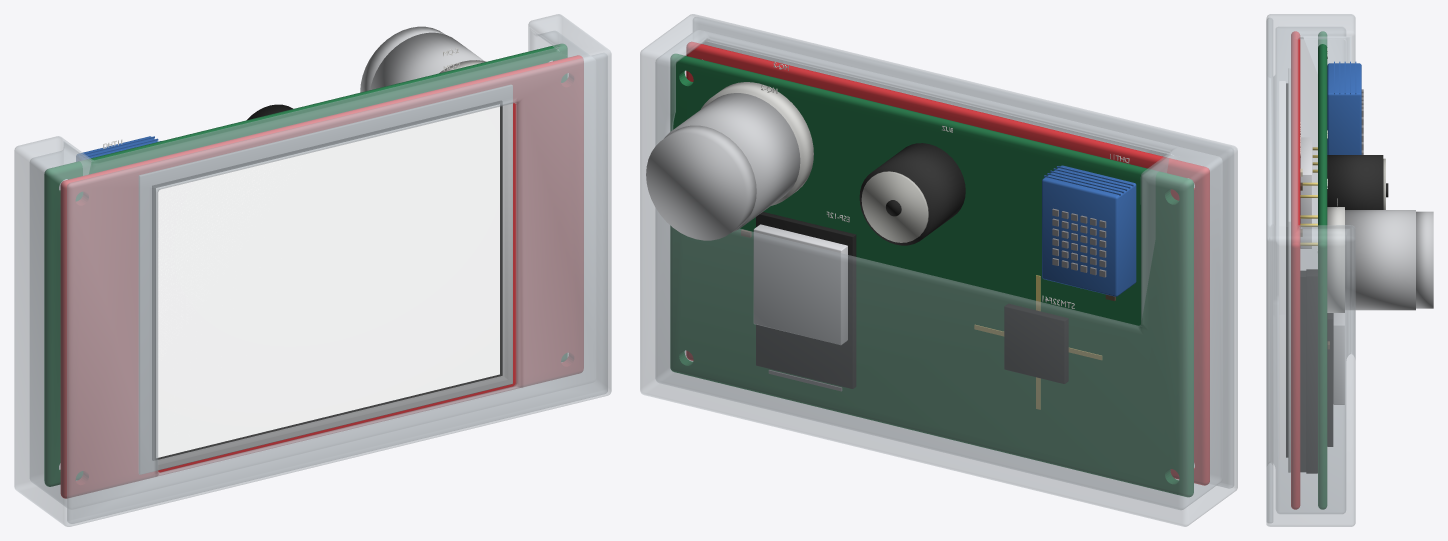
The picture shows the model from 3 angles, left to right: view 1: azimuth 30°, elevation 25°; view 2: azimuth 150°, elevation 25°; view 3: azimuth 270°, elevation 25°; orthographic projection. The views are drawn at different scales.
Visible parts, largest first — view 1: Panel_Shell_Body, TFT_Cover_Glass, Dynamic_Screen_Canvas, Panel_Front, TFT_Red_PCB, TFT_Metal_Bezel, Mesh_PCB, TFT_LCD_Body, Mesh_MQ2, Sensor_MQ2_Dome; view 2: Panel_Shell_Body, Mesh_PCB, TFT_Red_PCB, Panel_Front, Sensor_MQ2_Dome, Mod_ESP8266_Shield, Mesh_DHT11, Mesh_MQ2, Mesh_ESP8266, Mesh_STM32F411, Mesh_Buzzer, Buzzer_Top (+1 smaller); view 3: Panel_Shell_Body, Mesh_MQ2, TFT_Red_PCB, Mesh_PCB, Panel_Front, Mesh_DHT11, Mesh_Buzzer, Main_Female_Header, Sensor_MQ2_Ring, Sensor_MQ2_Dome, TFT_Pin_Header_Base, TFT_Metal_Bezel (+4 smaller).
Boxes of the visible parts, x1,y1,x2,y2 form: Panel_Shell_Body: (14, 14, 611, 526); TFT_Cover_Glass: (158, 105, 507, 464); Dynamic_Screen_Canvas: (156, 104, 499, 457); Panel_Front: (67, 53, 607, 523); TFT_Red_PCB: (60, 55, 583, 498); TFT_Metal_Bezel: (139, 85, 512, 474); Mesh_PCB: (44, 43, 567, 486); TFT_LCD_Body: (152, 101, 502, 460); Mesh_MQ2: (370, 32, 483, 89); Sensor_MQ2_Dome: (360, 26, 444, 92); Panel_Shell_Body: (640, 14, 1237, 526); Mesh_PCB: (670, 53, 1193, 497); TFT_Red_PCB: (686, 41, 1209, 485); Panel_Front: (693, 17, 1233, 488); Sensor_MQ2_Dome: (646, 125, 756, 240); Mod_ESP8266_Shield: (753, 224, 847, 344); Mesh_DHT11: (1042, 165, 1136, 296); Mesh_MQ2: (664, 93, 800, 232); Mesh_ESP8266: (756, 212, 856, 388); Mesh_STM32F411: (1004, 303, 1068, 383); Mesh_Buzzer: (859, 143, 965, 245); Buzzer_Top: (861, 171, 928, 242); Panel_Shell_Body: (1266, 14, 1355, 526); Mesh_MQ2: (1345, 210, 1415, 310); TFT_Red_PCB: (1291, 31, 1300, 509); Mesh_PCB: (1318, 31, 1327, 509); Panel_Front: (1266, 17, 1273, 523); Mesh_DHT11: (1327, 63, 1361, 154); Mesh_Buzzer: (1327, 155, 1383, 209); Main_Female_Header: (1306, 269, 1317, 473); Sensor_MQ2_Ring: (1327, 207, 1344, 312); Sensor_MQ2_Dome: (1416, 211, 1433, 308); TFT_Pin_Header_Base: (1300, 270, 1306, 472); TFT_Metal_Bezel: (1288, 68, 1290, 472).
Bounding box in the file's own units: 0.8136 × 0.4962 × 0.2552.
